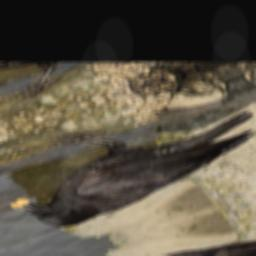Crow: (0, 83, 256, 238)
